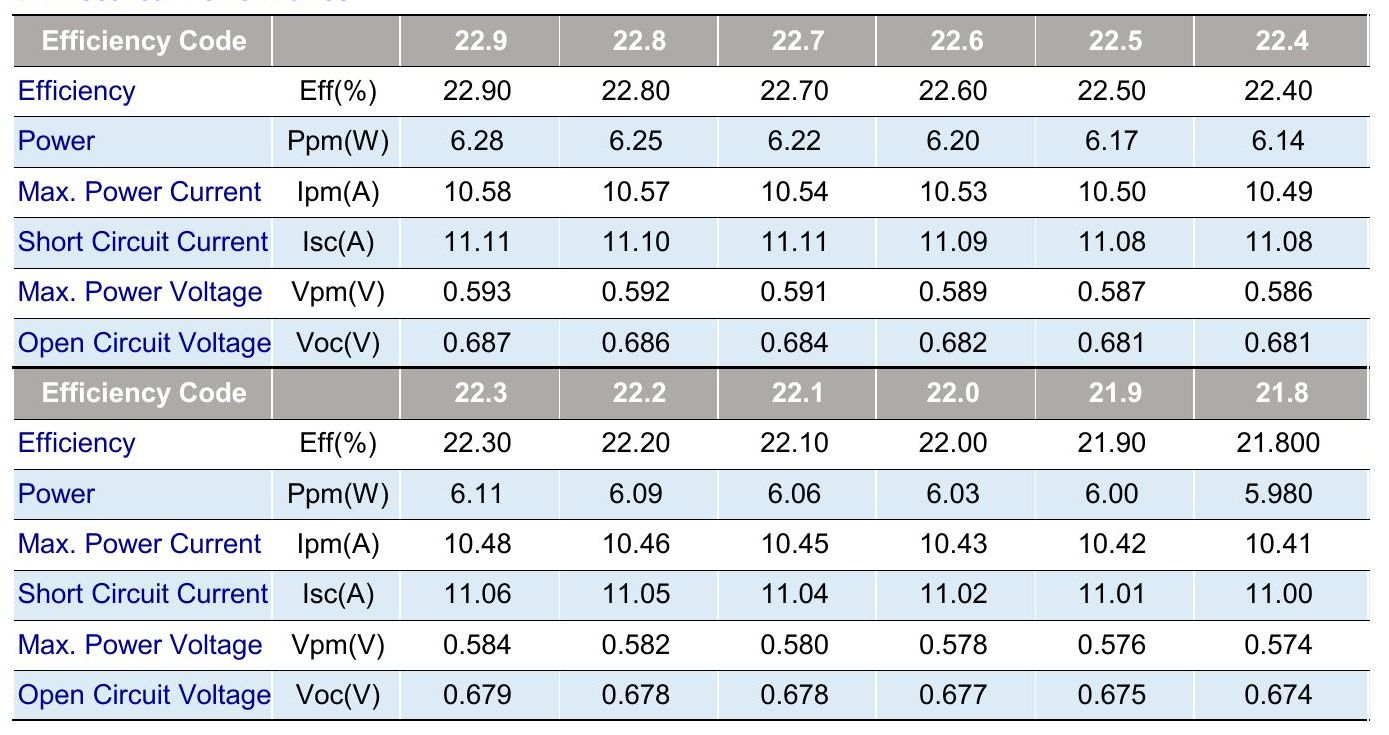table: (4, 4, 1380, 728)
table column: (14, 12, 277, 715), (1200, 7, 1373, 725), (881, 8, 1027, 725), (1044, 7, 1188, 725), (566, 10, 710, 726), (408, 9, 552, 720), (729, 9, 869, 725), (282, 9, 399, 719)
table row: (8, 16, 1368, 61), (9, 372, 1377, 416), (8, 624, 1380, 667), (9, 272, 1377, 315), (8, 676, 1380, 718), (9, 473, 1377, 515), (9, 525, 1375, 567), (10, 71, 1370, 113), (10, 222, 1377, 263), (10, 575, 1377, 616), (10, 424, 1376, 465), (9, 122, 1373, 163), (8, 324, 1374, 361), (11, 175, 1375, 212)
